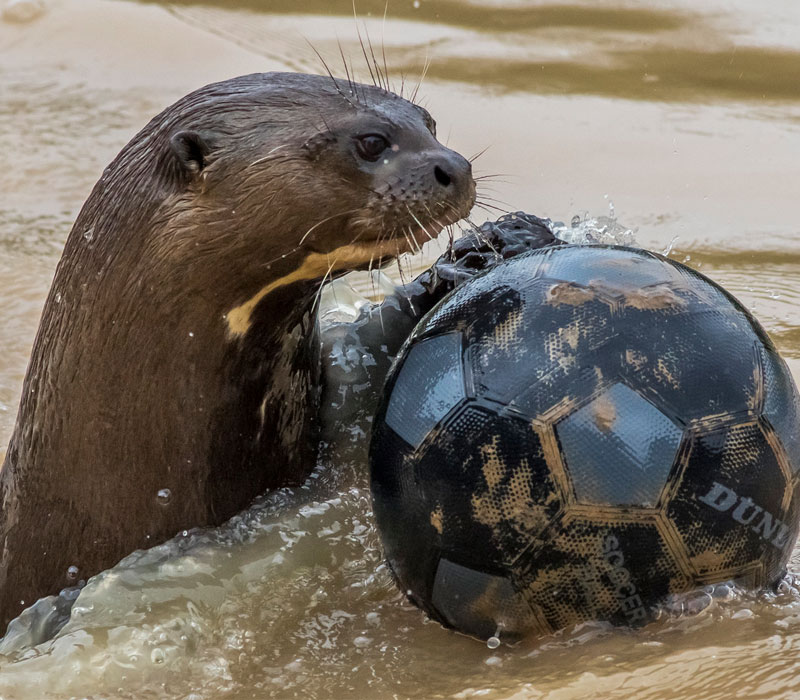otter: (17, 31, 483, 598)
